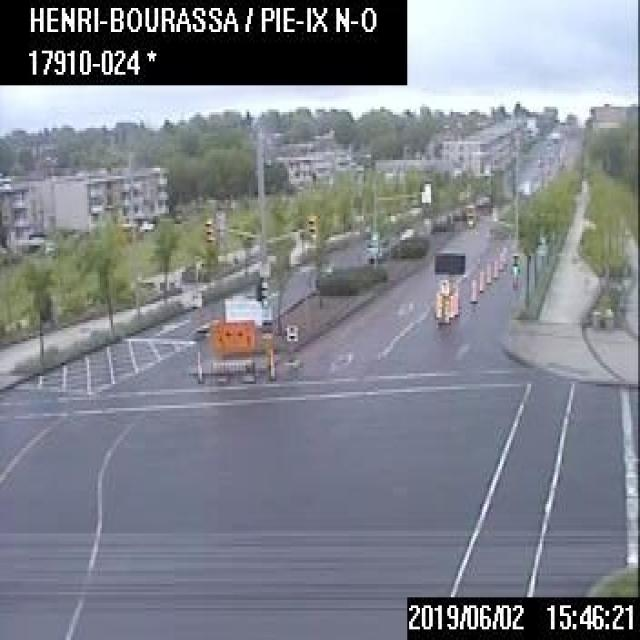construction: (193, 293, 276, 384), (432, 250, 464, 320), (468, 276, 476, 302), (434, 291, 440, 316), (448, 293, 454, 315), (484, 261, 490, 282), (492, 258, 498, 277), (453, 291, 458, 312), (478, 270, 482, 290)
